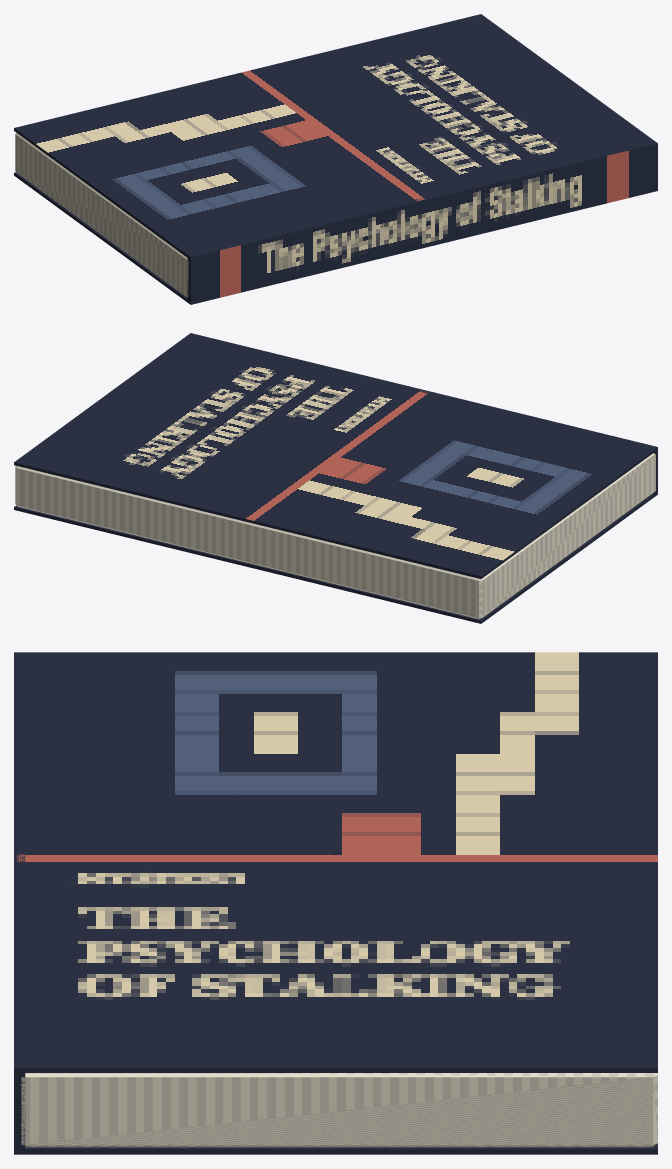
Rendered from book_nonf_soft_psych_psycstlk.glb.
3 views of the same model, one above another, from view 1: azimuth 30°, elevation 25°; view 2: azimuth 150°, elevation 25°; view 3: azimuth 270°, elevation 25° (orthographic). The views are drawn at different scales.
Visible parts, largest first — view 1: block_front, block_spine, block_pages, block_back; view 2: block_front, block_pages, block_back, block_spine; view 3: block_front, block_pages, block_back, block_spine.
Boxes of the visible parts, x1,y1,x2,y2 form: block_front: [14, 14, 656, 259]; block_spine: [187, 143, 657, 304]; block_pages: [15, 132, 188, 297]; block_back: [14, 172, 189, 303]; block_front: [14, 333, 657, 578]; block_pages: [15, 453, 655, 619]; block_back: [14, 492, 657, 623]; block_spine: [188, 333, 657, 494]; block_front: [16, 652, 657, 1072]; block_pages: [21, 1073, 657, 1147]; block_back: [16, 1143, 657, 1154]; block_spine: [14, 652, 25, 1154].
Bounding box in the file's own units: 0.1988 × 0.0193 × 0.1302.
1 material, 1 textured.
